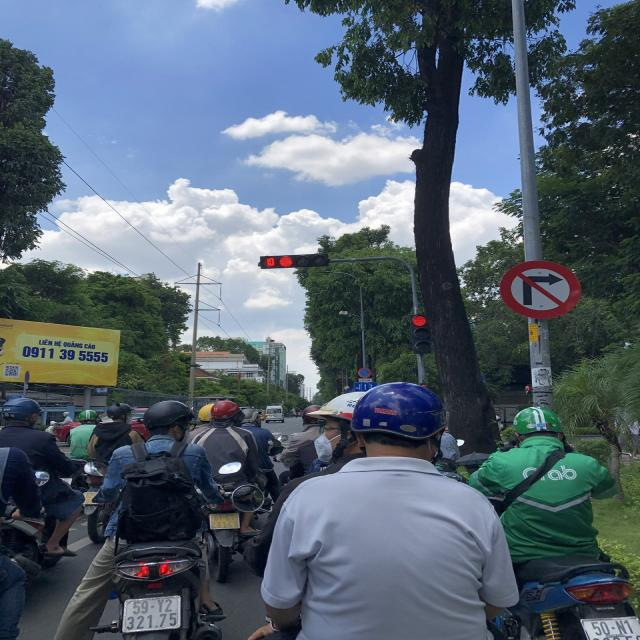Bien bao cam re phai: (497, 254, 582, 322)
